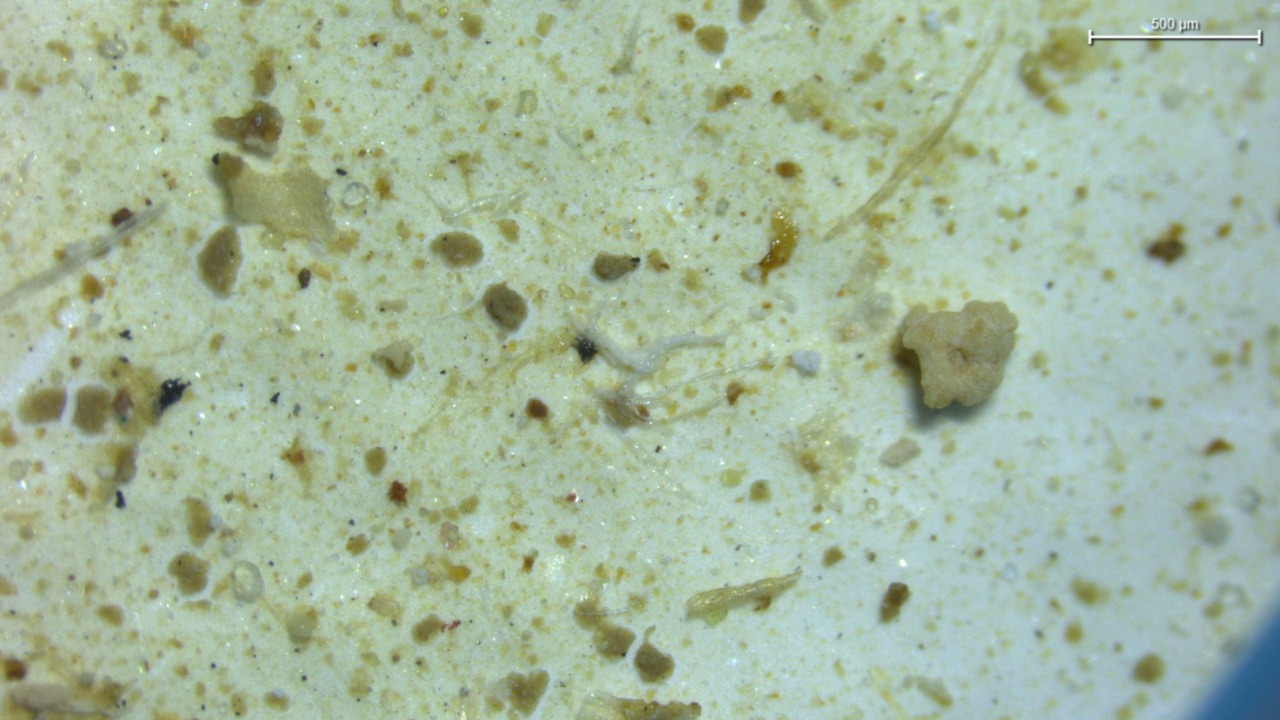microplastic_fragment: (900, 300, 1018, 408), (234, 561, 264, 603), (790, 351, 821, 375)
